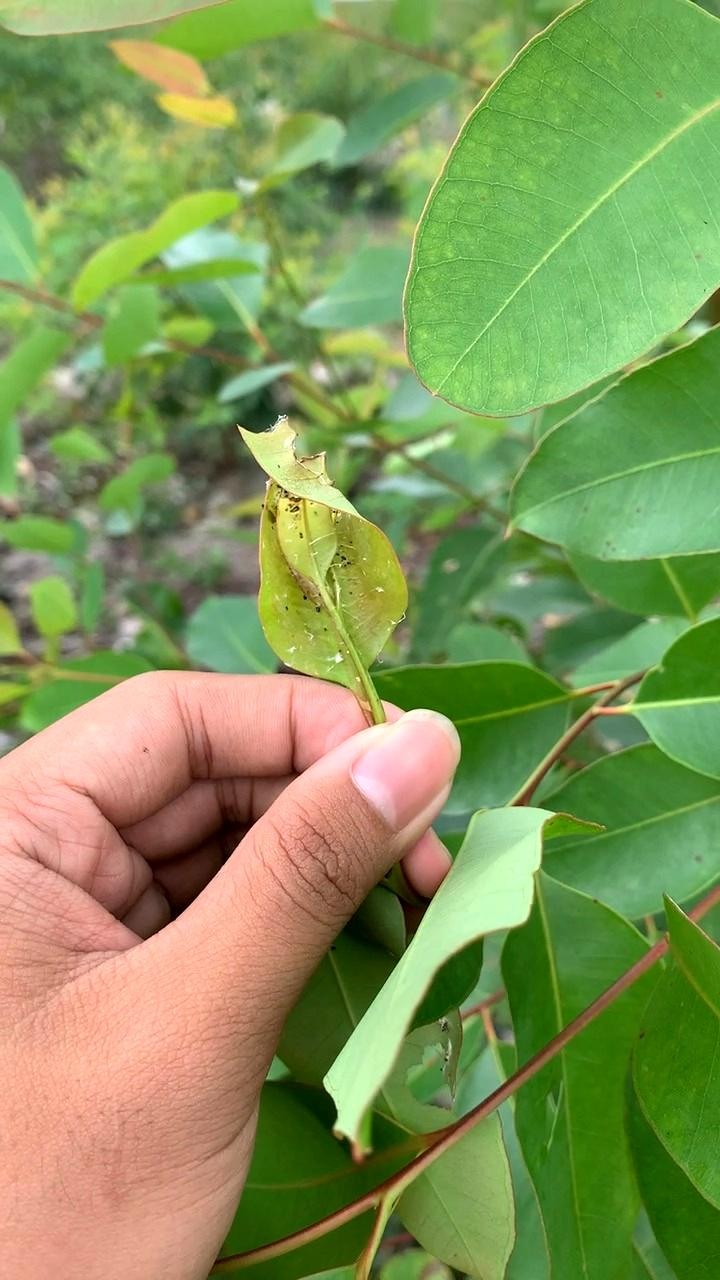Leaf Roller - Leaf: (246, 416, 411, 711)
